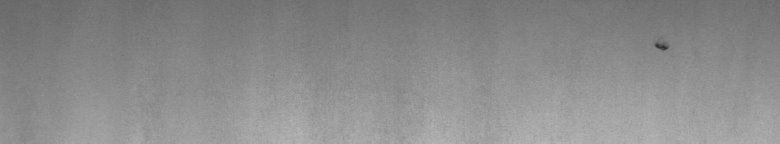fi: (652, 36, 671, 56)
